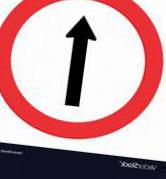forward: (1, 1, 164, 139)
